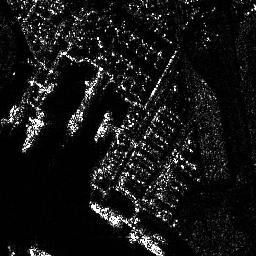ship: (22, 108, 45, 152), (126, 232, 164, 256), (87, 201, 121, 227), (67, 110, 84, 137), (95, 111, 109, 141)
